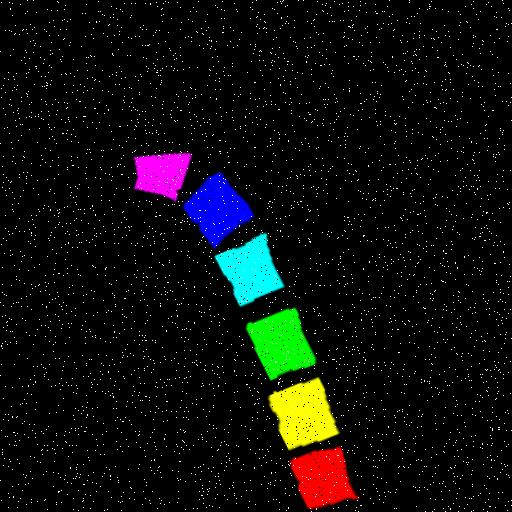L1: (279, 443, 346, 504)
L2: (261, 374, 329, 446)
L3: (239, 304, 307, 376)
L4: (209, 231, 277, 304)
L5: (178, 170, 248, 246)
S1: (128, 153, 187, 199)
